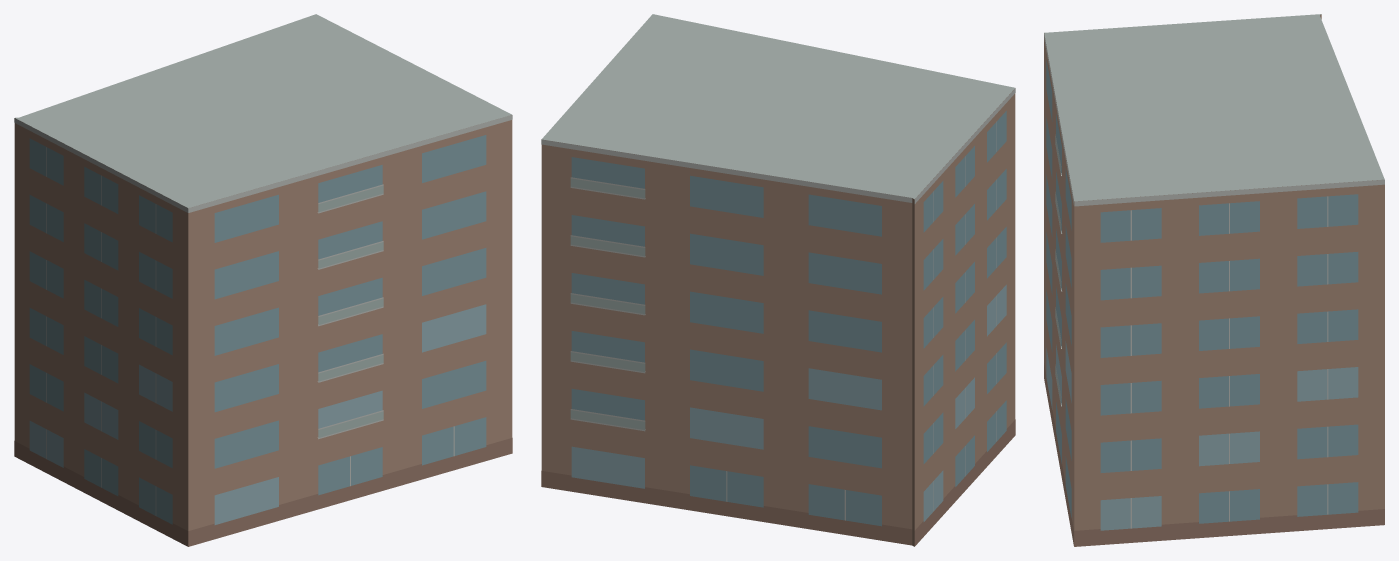
The model's file is survey-upis-32746592.glb.
The picture shows the model from 3 angles, left to right: view 1: azimuth 30°, elevation 25°; view 2: azimuth 150°, elevation 25°; view 3: azimuth 270°, elevation 25°; orthographic projection. The views are drawn at different scales.
Visible parts, largest first — view 1: survey-upis-32746592.tmp; view 2: survey-upis-32746592.tmp; view 3: survey-upis-32746592.tmp.
Boxes of the visible parts, box(x1,y1,x2,y2) form: survey-upis-32746592.tmp: box(14, 14, 512, 546); survey-upis-32746592.tmp: box(541, 14, 1015, 546); survey-upis-32746592.tmp: box(1044, 14, 1384, 546).
Size of the model in its own units: 19.32 by 16.6 by 14.85.
